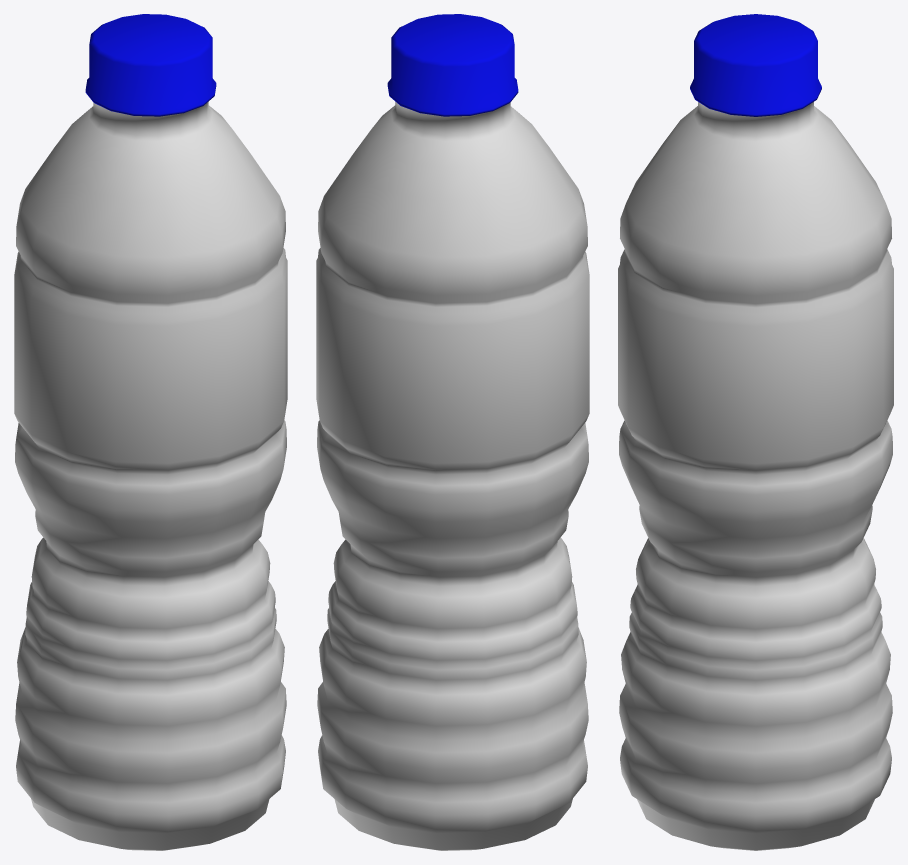
The model's file is botol.fbx.
3 renders of one model, left to right at view 1: azimuth 30°, elevation 25°; view 2: azimuth 150°, elevation 25°; view 3: azimuth 270°, elevation 25°, orthographic.
Parts seen in each view (by area): view 1: Plane; view 2: Plane; view 3: Plane.
Boxes of the visible parts, x1,y1,x2,y2 form: Plane: [14, 14, 287, 850]; Plane: [316, 14, 589, 850]; Plane: [618, 14, 893, 850].
Bounding box in the file's own units: 146 × 461 × 146.
